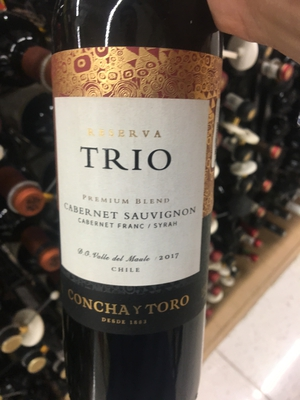trio cabernet sauvignon: (44, 14, 241, 398)
